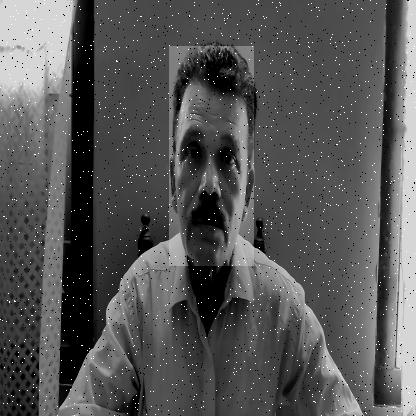Normal: (169, 46, 254, 266)
